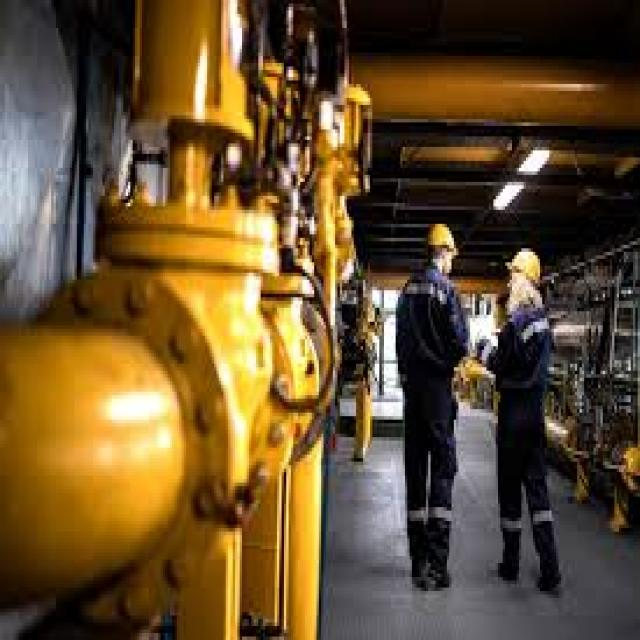Reflective-Jacket: (489, 297, 563, 441)
Safety-Helmet: (503, 238, 549, 294), (419, 213, 463, 266)
